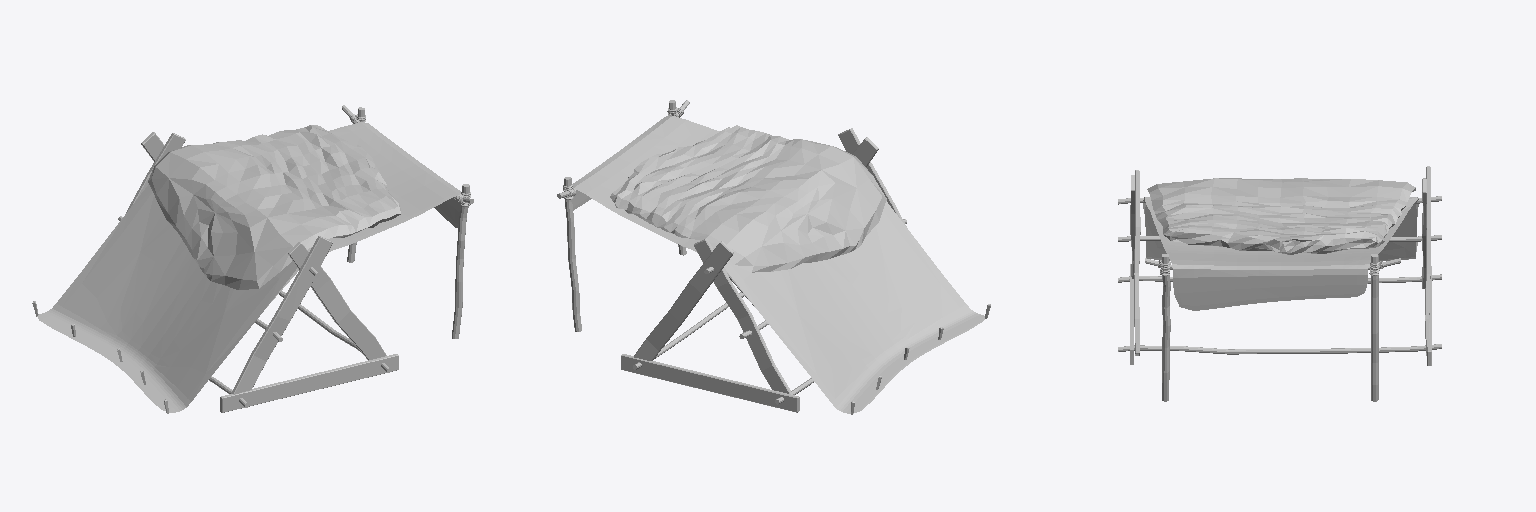
File: lowpoly_viking_tent_004.obj
The picture shows the model from 3 angles: view 1: azimuth 30°, elevation 25°; view 2: azimuth 150°, elevation 25°; view 3: azimuth 270°, elevation 25°; orthographic projection.
Parts seen in each view (by area): view 1: Plane.002, Plane.001, Cube.015, Cube.017, Cube.014, Cylinder.124, Cube.016; view 2: Plane.002, Plane.001, Cube.012, Cube.013, Cube.016, Cylinder.125, Cube.015; view 3: Plane.001, Plane.002, Cylinder.123, Cylinder.125, Cylinder.124, Cube.014, Cube.013.
Part boxes in pixels (left/top/right/bottom): Plane.002: left=37, top=122, right=460, bottom=412; Plane.001: left=148, top=125, right=400, bottom=289; Cube.015: left=231, top=236, right=332, bottom=394; Cube.017: left=220, top=354, right=398, bottom=412; Cube.014: left=288, top=242, right=386, bottom=360; Cylinder.124: left=452, top=184, right=469, bottom=338; Cube.016: left=126, top=133, right=185, bottom=212; Plane.002: left=572, top=116, right=984, bottom=413; Plane.001: left=610, top=125, right=886, bottom=272; Cube.012: left=621, top=354, right=799, bottom=412; Cube.013: left=634, top=241, right=733, bottom=360; Cube.016: left=694, top=238, right=792, bottom=394; Cylinder.125: left=564, top=177, right=581, bottom=331; Cube.015: left=838, top=128, right=906, bottom=226; Plane.001: left=1147, top=178, right=1415, bottom=254; Plane.002: left=1143, top=197, right=1418, bottom=310; Cylinder.123: left=1118, top=344, right=1441, bottom=354; Cylinder.125: left=1371, top=254, right=1378, bottom=401; Cylinder.124: left=1162, top=254, right=1170, bottom=401; Cube.014: left=1134, top=170, right=1140, bottom=355; Cube.013: left=1425, top=166, right=1430, bottom=355.
Bounding box in the file's own units: 10 × 4.61 × 8.92.